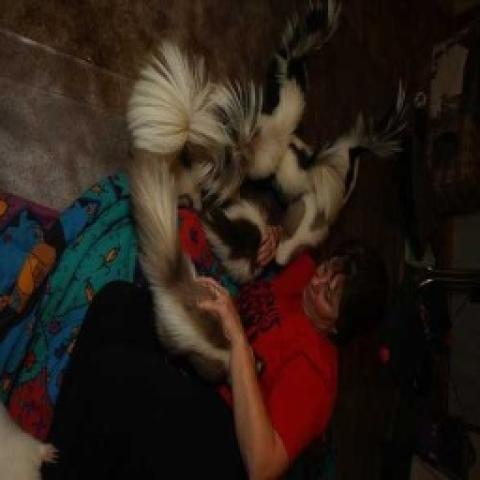small_animal: (130, 147, 269, 389), (271, 85, 409, 268), (241, 2, 343, 184)
